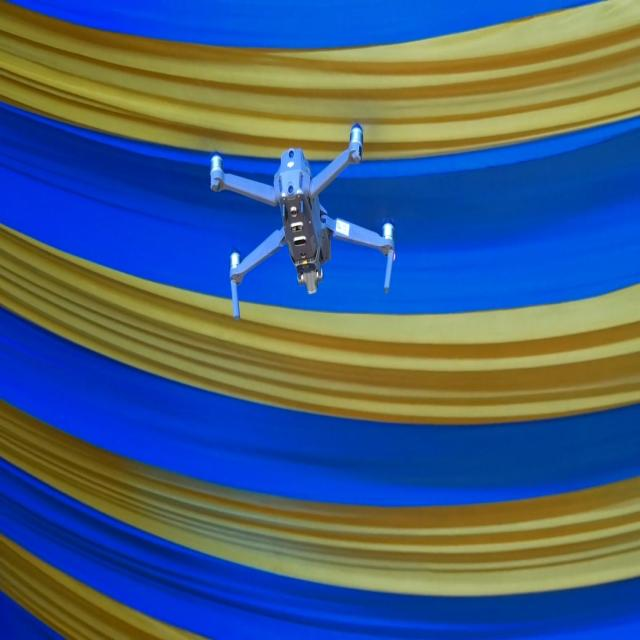Drone: (203, 115, 407, 334)
